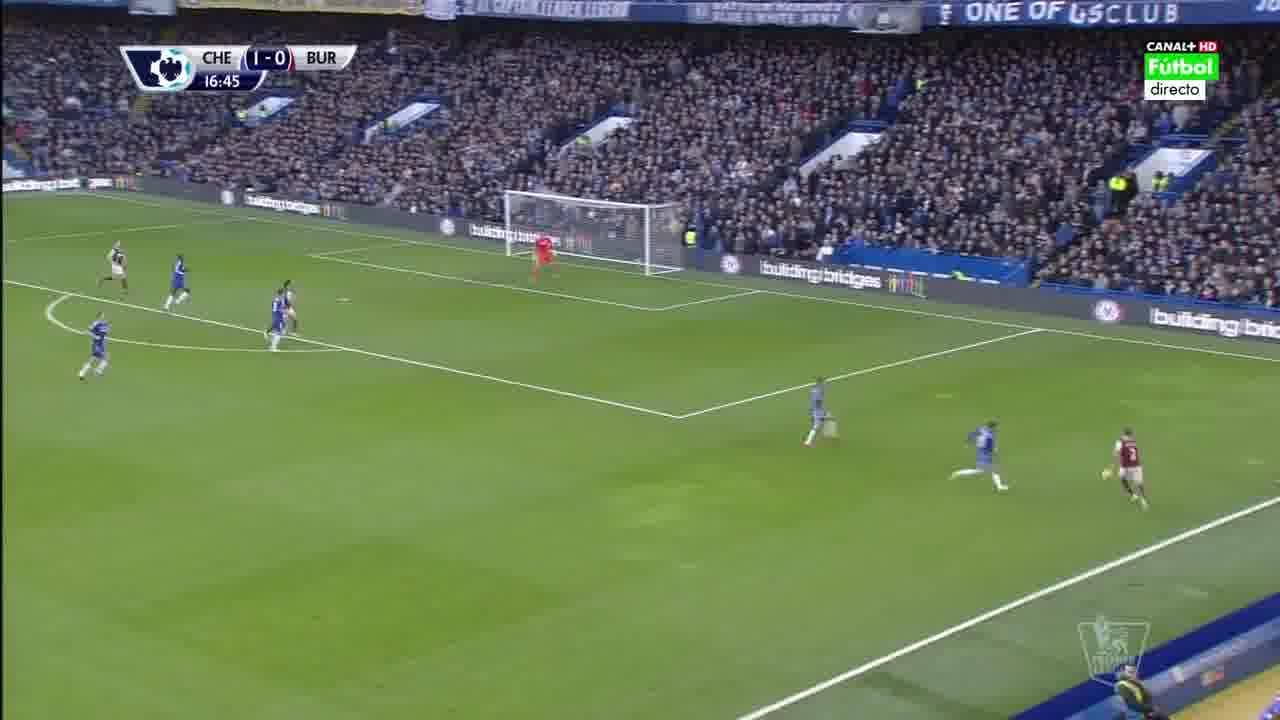football: (1100, 467, 1115, 480)
